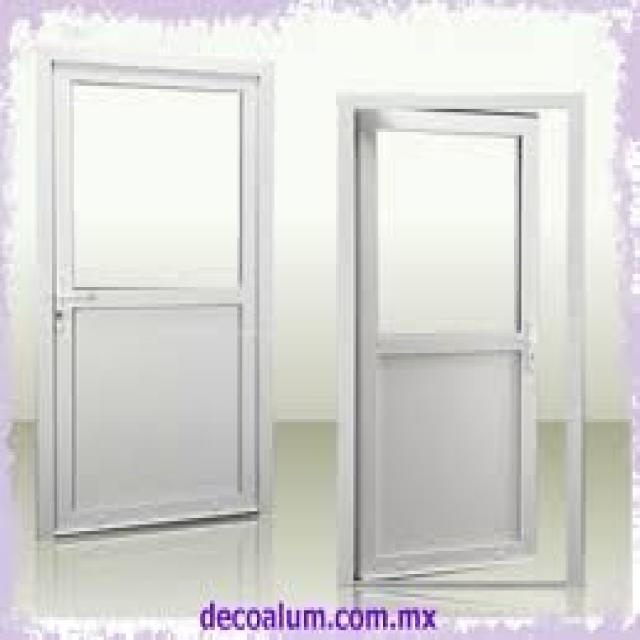door: (44, 53, 264, 538)
